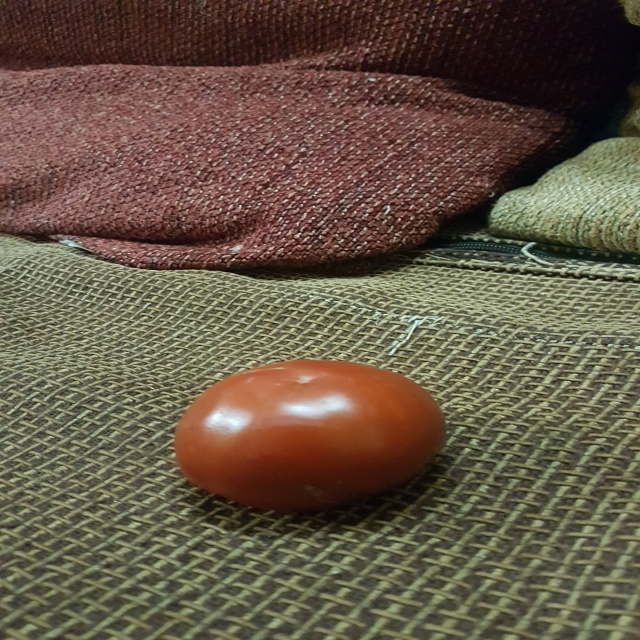tomato: (169, 357, 456, 510)
